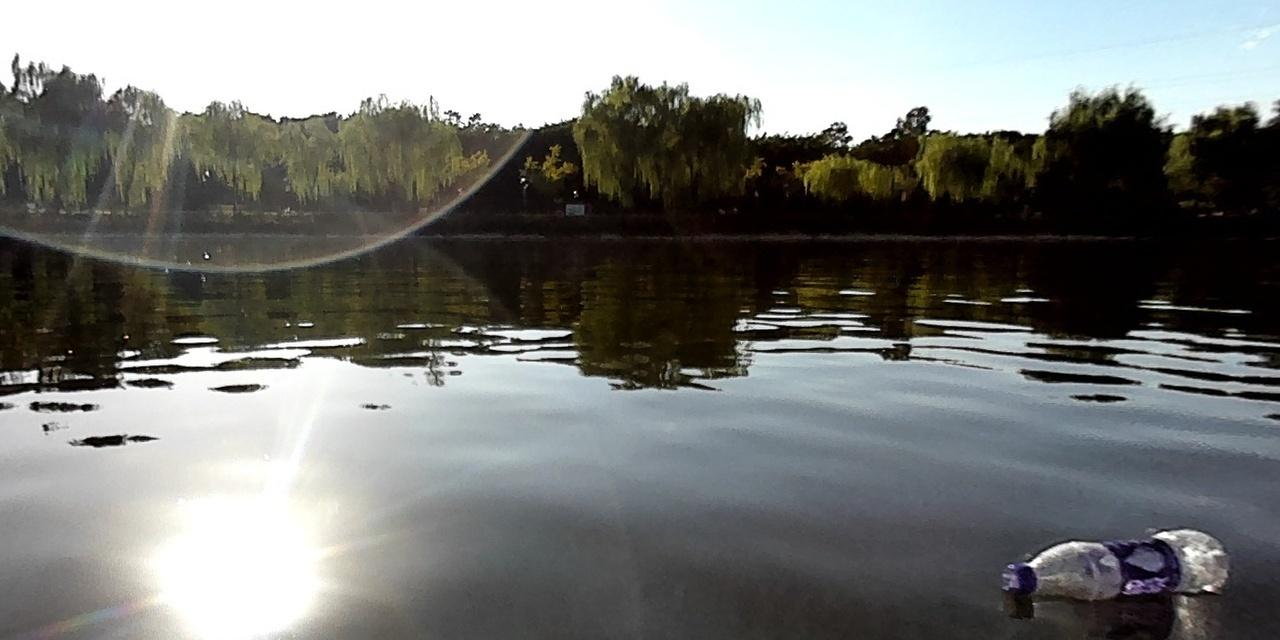bottle: (999, 521, 1229, 598)
